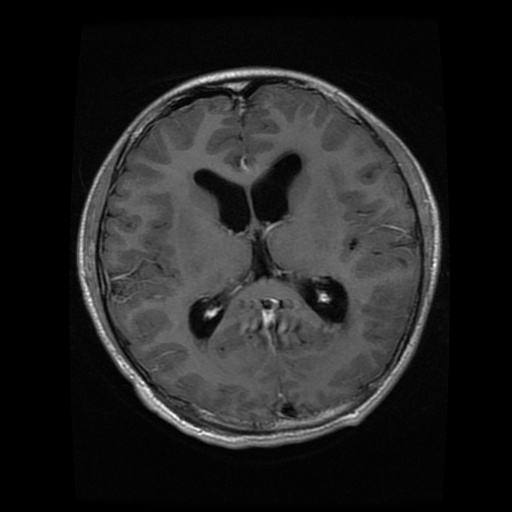glioma: (231, 295, 307, 351)
